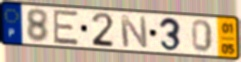0: (190, 18, 214, 55)
2: (90, 11, 115, 49)
3: (158, 16, 185, 54)
8: (25, 7, 51, 45)
E: (52, 8, 80, 47)
N: (118, 14, 150, 50)
